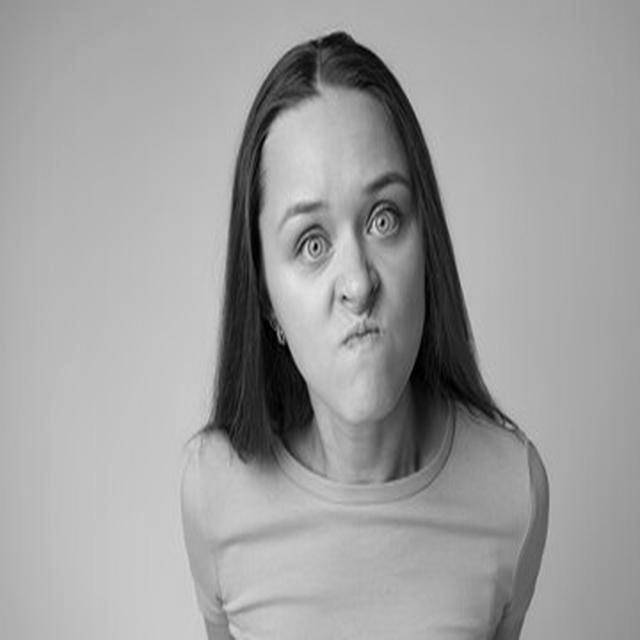Angry: (259, 96, 426, 421)
